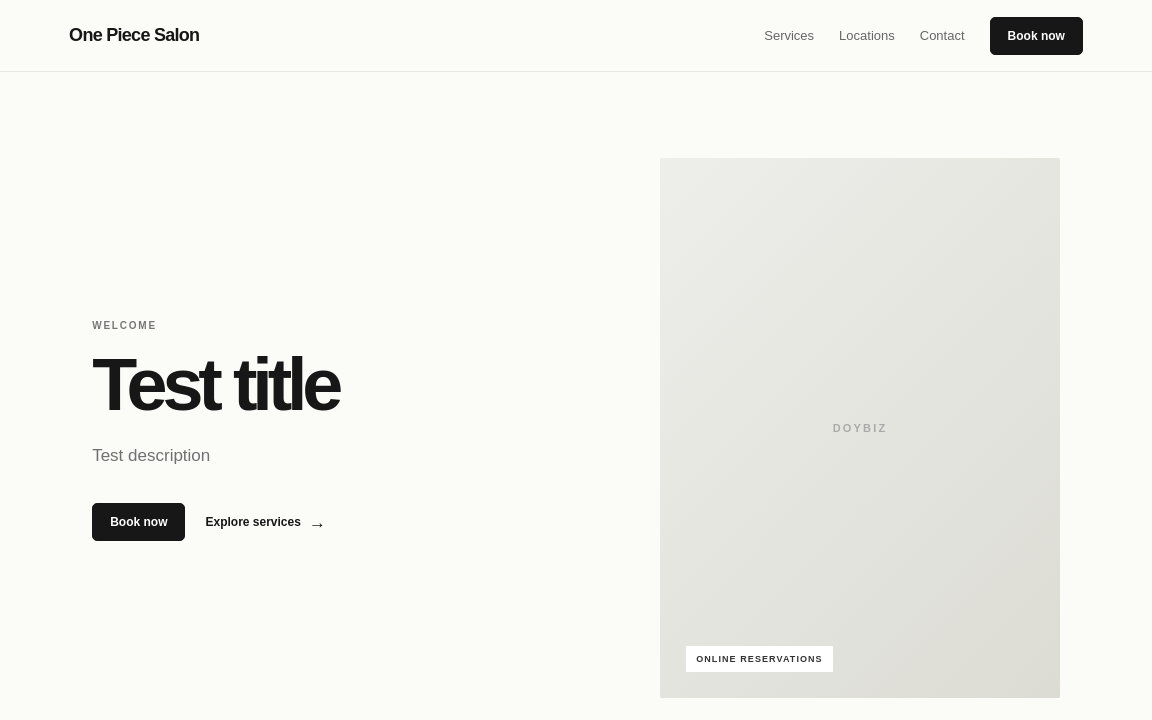
ClientLandingPage › renders the Minimal Modern template with the shared booking CTA and content
The image size is (1152, 720).
Expected: the heading "Test title" is shown, [92,343,338,426]
Click the button "Book now" next to "Contact" at x=1036, y=36, box [990,16,1083,54]
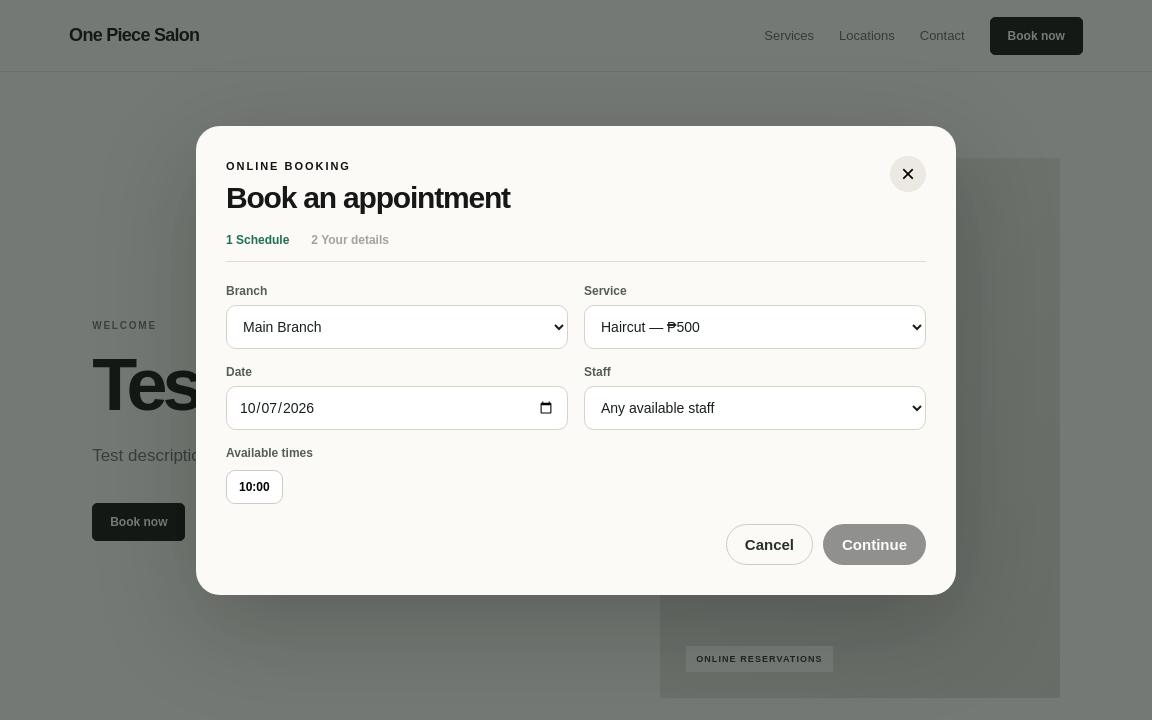
Now the dialog "Book an appointment" is shown, box [196,126,956,594]
Now the button "10:00" is shown, box [226,470,283,504]
